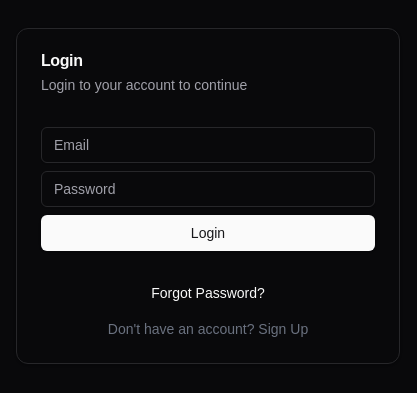
Test case: Login E2E Tests › should handle login with invalid credentials
The image size is (417, 393).
Expected: the form with test id "login-form" is shown, [41,119,375,251]
// Test with invalid credentials - this will make real API call
Type "invalid@example.com" into the field with test id "email-input".
click(208, 145); type("invalid@example.com")  # box [41,127,375,163]
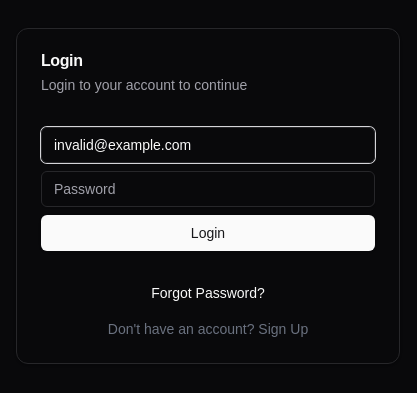
Type "wrongpassword" into the password field with test id "password-input".
click(208, 189); type("wrongpassword")  # box [41,171,375,207]
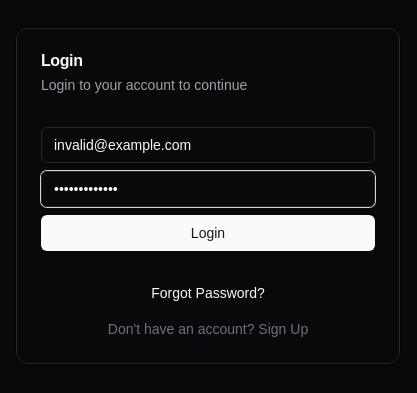
Click the button with test id "login-button".
click(208, 233)  # box [41,215,375,251]
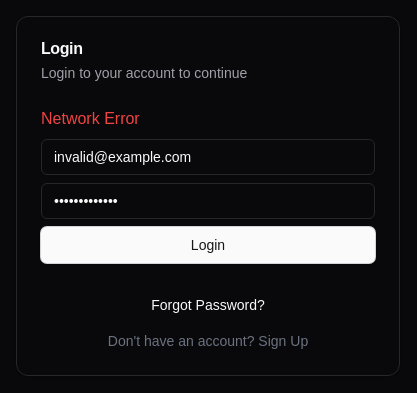
Result: the text with test id "error-message" is shown at [41,110,140,127]
